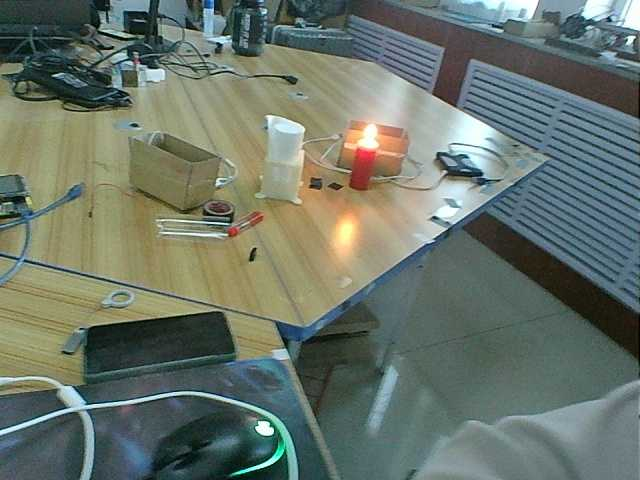candle: (349, 143, 378, 198)
fire: (361, 121, 381, 151)
